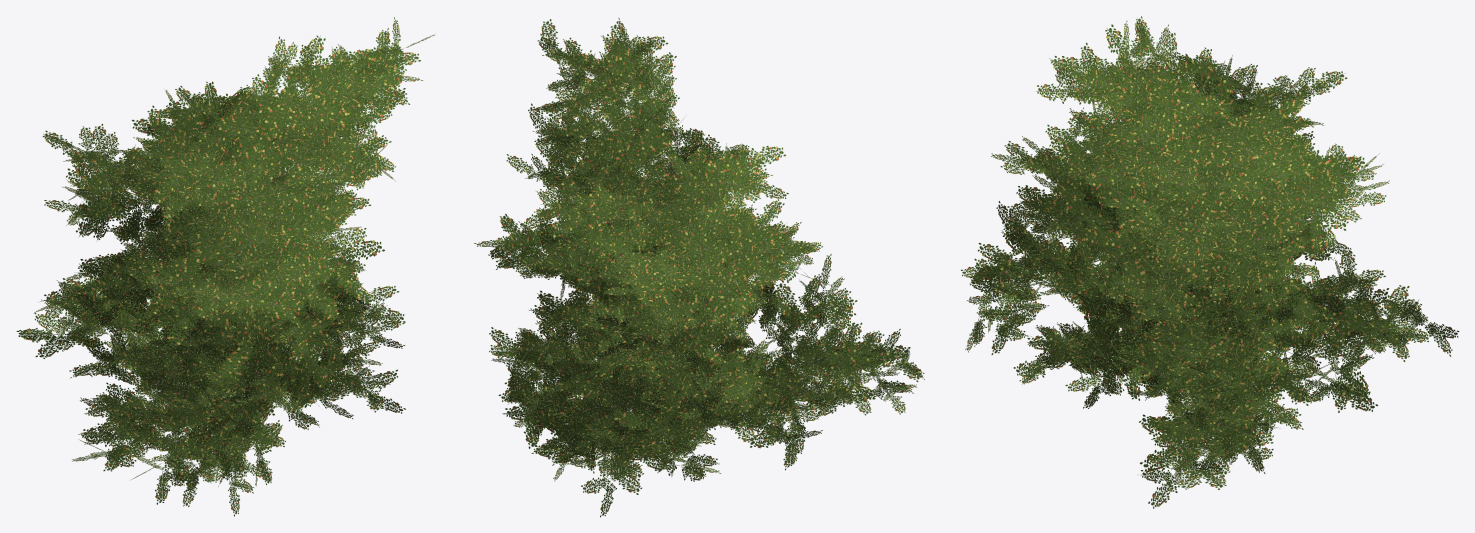
Rendered from apple_leaf.glb.
3 views of the same model, side by side, from view 1: azimuth 30°, elevation 25°; view 2: azimuth 150°, elevation 25°; view 3: azimuth 270°, elevation 25° (orthographic). The views are drawn at different scales.
Parts seen in each view (by area): view 1: apple_c, apple_a, apple_b; view 2: apple_c, apple_a, apple_b; view 3: apple_c, apple_a, apple_b.
Part boxes in pixels (x1,y1,x2,y2): apple_c: (16,17,435,516); apple_a: (105,81,405,422); apple_b: (99,145,355,507); apple_c: (474,17,924,517); apple_a: (502,143,834,461); apple_b: (531,200,819,477); apple_c: (960,16,1459,473); apple_a: (1002,31,1337,508); apple_b: (1013,155,1328,429).
Size of the model in its own units: 8.37 by 8.63 by 8.77.
Materials: 1 (1 with a texture image).
